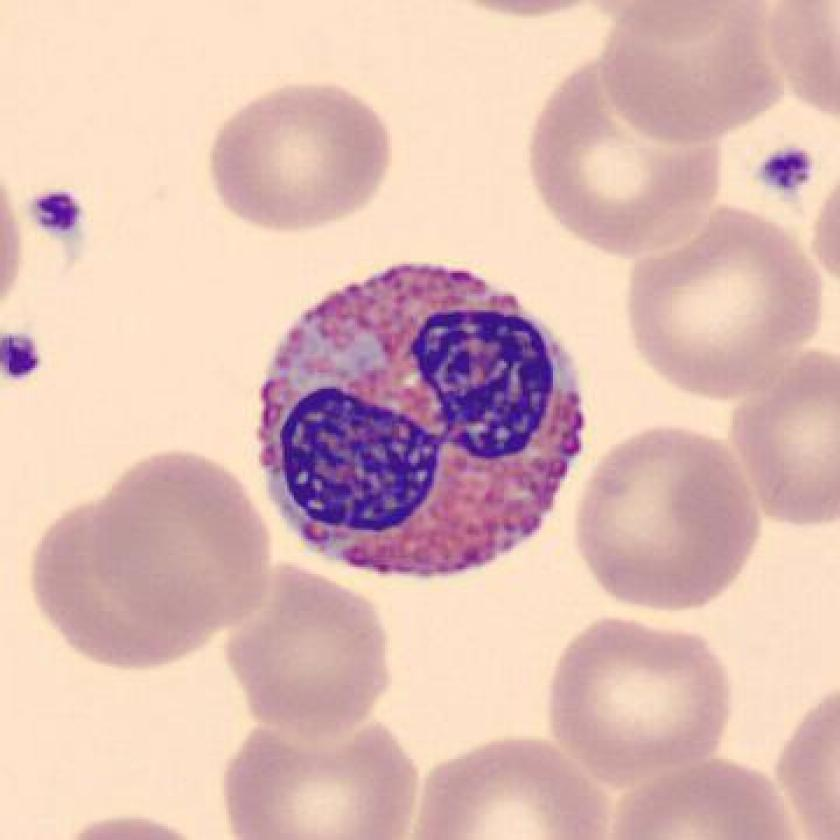eosinophil: (241, 249, 594, 594)
